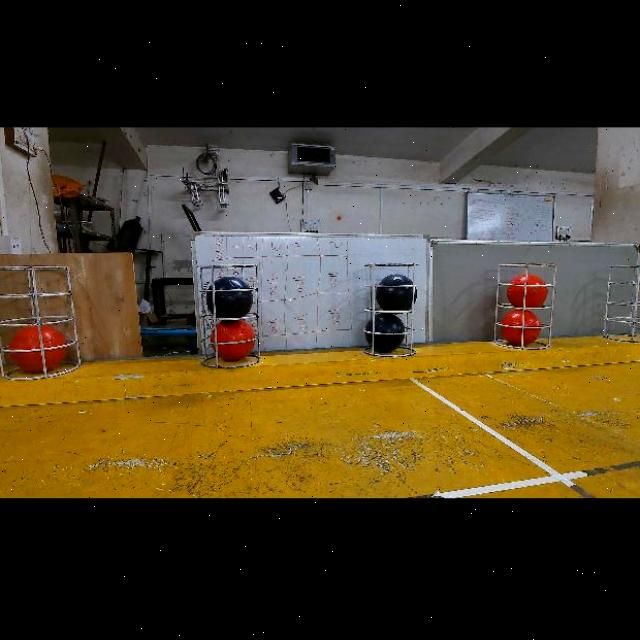P: (205, 276, 254, 319), (365, 313, 406, 355), (375, 275, 418, 312)
R: (5, 326, 64, 374), (215, 320, 255, 363), (500, 311, 541, 347), (508, 275, 549, 308)
S: (191, 259, 269, 373), (0, 266, 78, 380), (356, 262, 428, 362), (490, 256, 556, 354), (600, 255, 640, 351)
